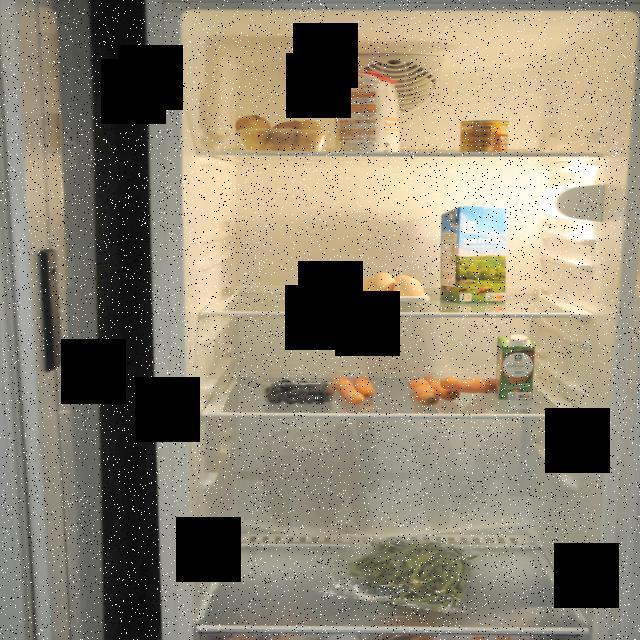blueberries: (261, 375, 333, 407)
carrot: (409, 374, 499, 407), (334, 375, 382, 410)
corn: (456, 118, 512, 150)
eggs: (367, 270, 429, 302)
green_beans: (342, 535, 483, 614)
heavy_cream: (496, 331, 538, 405)
milk: (444, 204, 511, 306)
potato: (236, 116, 332, 152)
sugar: (334, 66, 409, 154)
